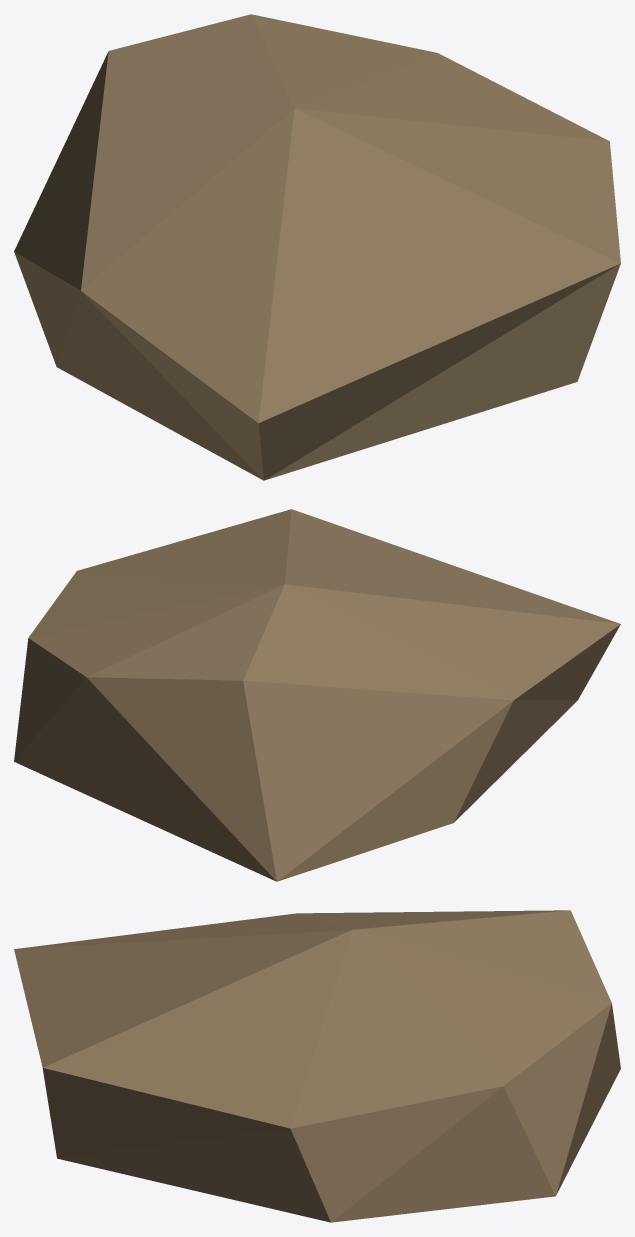
File: Rock15.fbx
The picture shows the model from 3 angles, top to bottom: view 1: azimuth 30°, elevation 25°; view 2: azimuth 150°, elevation 25°; view 3: azimuth 270°, elevation 25°; orthographic projection. The views are drawn at different scales.
Visible parts, largest first — view 1: Rock15; view 2: Rock15; view 3: Rock15.
Boxes of the visible parts, x1,y1,x2,y2 form: Rock15: [14, 14, 620, 480]; Rock15: [14, 509, 620, 881]; Rock15: [14, 910, 620, 1222].
Bounding box in the file's own units: 10.32 × 4.02 × 10.95.
